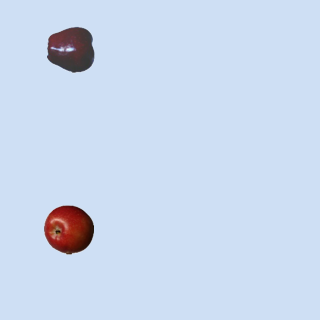Apple Braeburn: (43, 204, 93, 254)
Apple Red Delicious: (46, 24, 96, 74)
